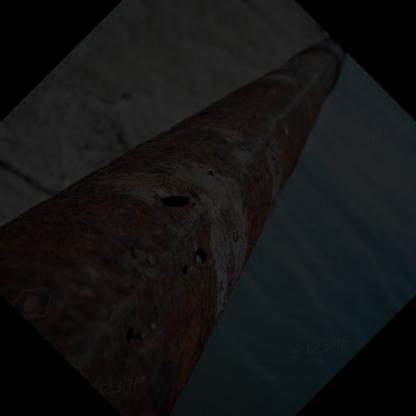burst: (156, 183, 227, 281)
